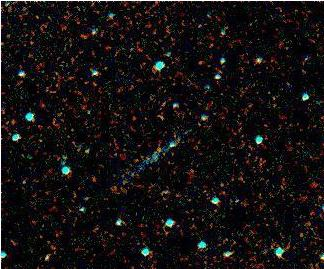star: (144, 132, 174, 162)
